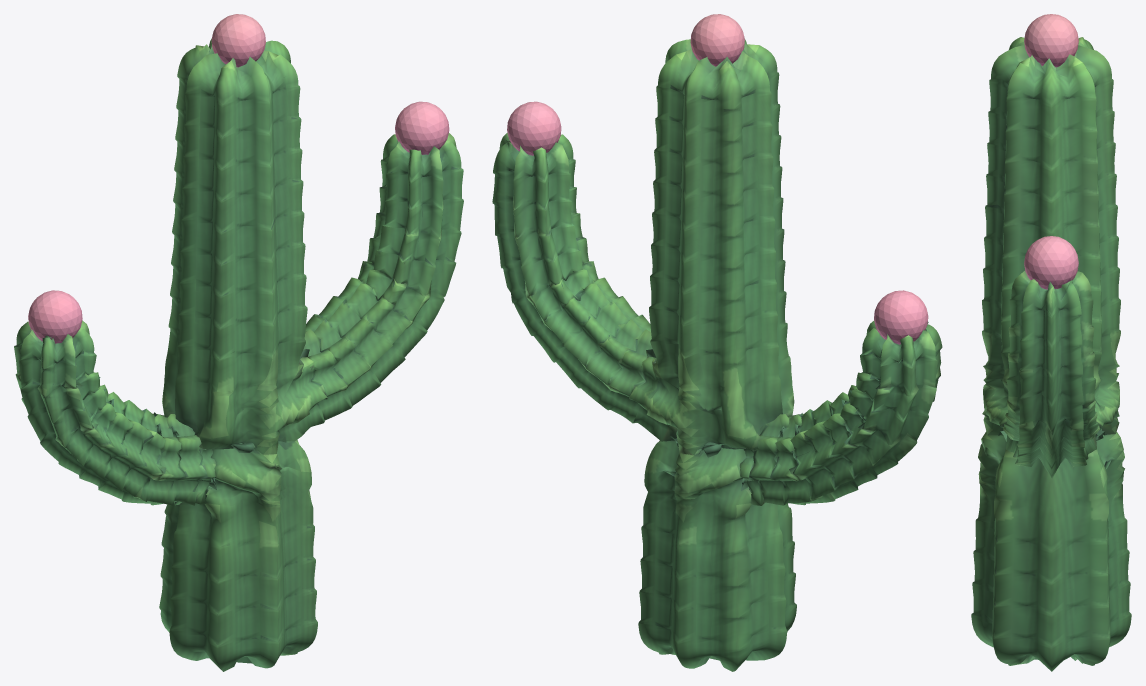
Rendered from WM_Cactus_A.fbx.
The picture shows the model from 3 angles, left to right: view 1: azimuth 30°, elevation 25°; view 2: azimuth 150°, elevation 25°; view 3: azimuth 270°, elevation 25°; orthographic projection.
Visible parts, largest first — view 1: WM_Cactus_A_LOD0; view 2: WM_Cactus_A_LOD0; view 3: WM_Cactus_A_LOD0.
Boxes of the visible parts, x1,y1,x2,y2 form: WM_Cactus_A_LOD0: [14, 14, 463, 671]; WM_Cactus_A_LOD0: [492, 14, 942, 671]; WM_Cactus_A_LOD0: [971, 14, 1131, 671].
Size of what is drawn, in the model's own units: 1.39 by 1.93 by 0.4392.
